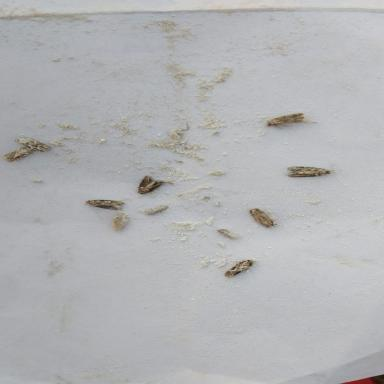pbw: (264, 112, 306, 128), (246, 207, 276, 228), (223, 258, 253, 277), (16, 137, 51, 153), (134, 174, 162, 194), (286, 166, 332, 177), (86, 198, 126, 210), (3, 146, 31, 162), (112, 212, 128, 230), (146, 204, 168, 214), (216, 228, 237, 238)
